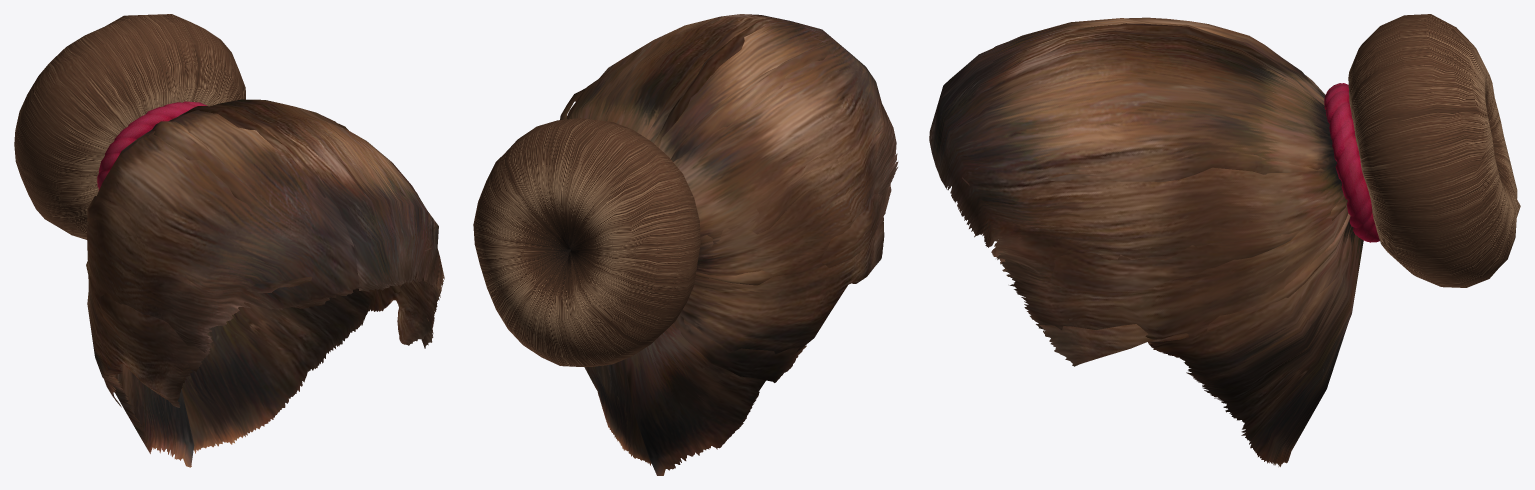
Rendered from mh_rehmanpolanski_hair_bun_brown.glb.
The picture shows the model from 3 angles, left to right: view 1: azimuth 30°, elevation 25°; view 2: azimuth 150°, elevation 25°; view 3: azimuth 270°, elevation 25°; orthographic projection. The views are drawn at different scales.
Visible parts, largest first — view 1: mh_rehmanpolanski_hair_bun_brown; view 2: mh_rehmanpolanski_hair_bun_brown; view 3: mh_rehmanpolanski_hair_bun_brown.
Part boxes in pixels (<box>): mh_rehmanpolanski_hair_bun_brown: <box>14,14,444,467</box>; mh_rehmanpolanski_hair_bun_brown: <box>473,14,898,475</box>; mh_rehmanpolanski_hair_bun_brown: <box>929,14,1520,466</box>.
Size of the model in its own units: 0.1664 by 0.2217 by 0.2708.
Materials: 1 (1 with a texture image).
